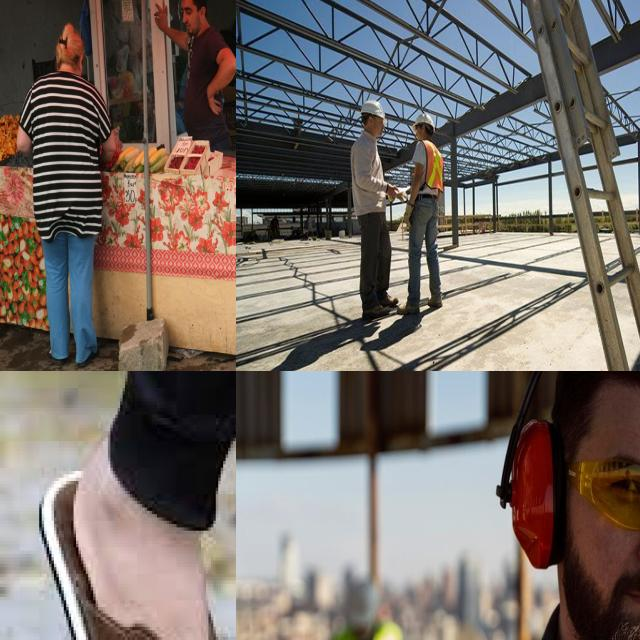Ear-protection: (495, 412, 565, 572)
Sandals: (39, 439, 236, 640)
face_nomask: (367, 119, 387, 142)
glasses: (565, 450, 640, 543)
hand_glove: (401, 201, 414, 229)
hand_noglove: (388, 182, 399, 208)
head_helmet: (358, 99, 385, 118), (411, 112, 436, 129)
person: (380, 371, 640, 640), (351, 100, 396, 315), (405, 110, 445, 320)
shoes: (359, 297, 391, 323), (424, 282, 446, 312), (402, 292, 422, 316)
vest: (416, 138, 446, 198)
